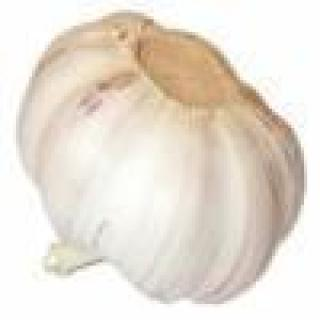Bawang Putih: (17, 7, 308, 305)
